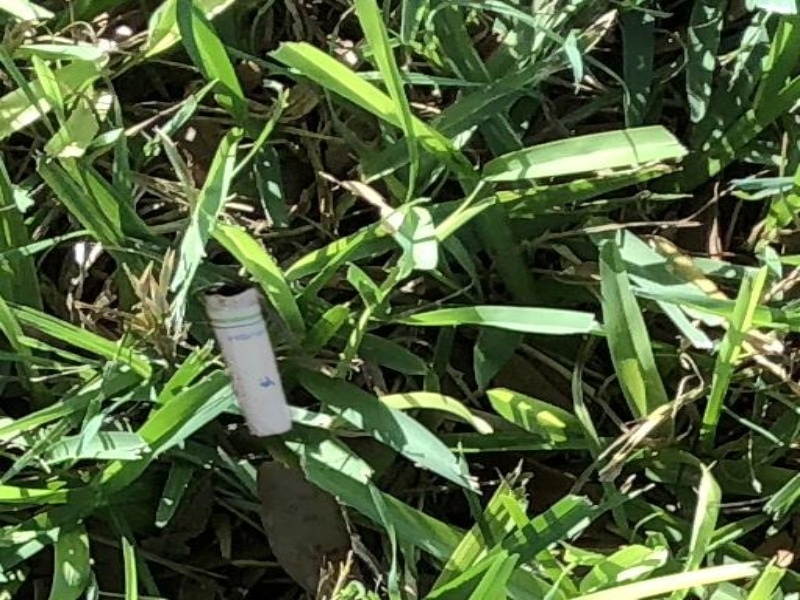cig: (199, 274, 304, 443)
